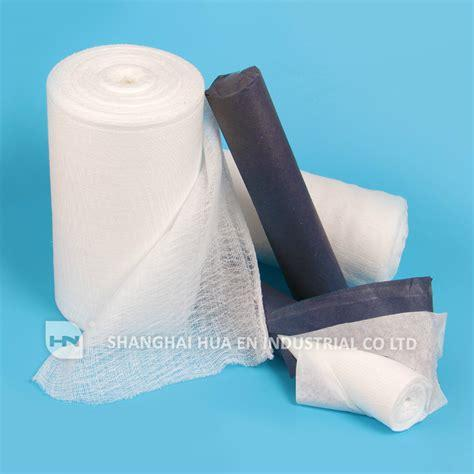gauze: (37, 25, 452, 433)
